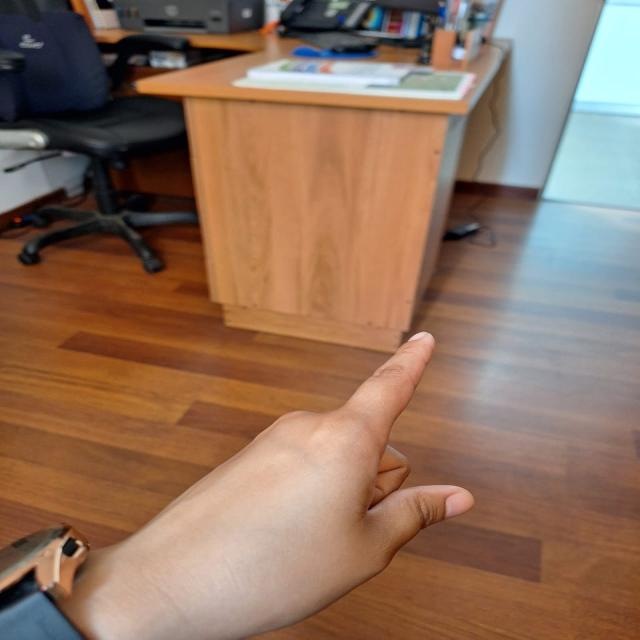X: (162, 313, 488, 635)
